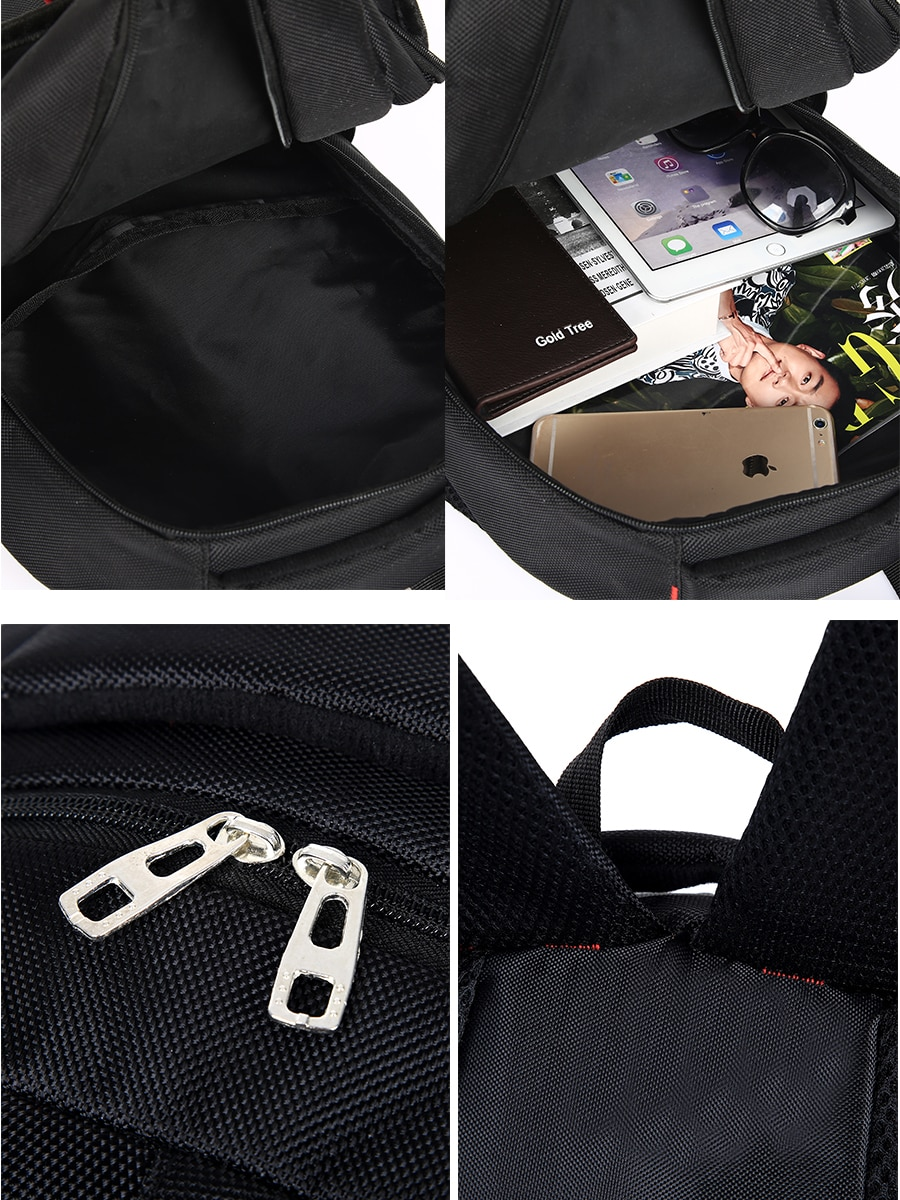Accessories|Sunglasses & Eyewears: (673, 103, 857, 237)
Computers&Acc|Computers & Tablets: (557, 114, 894, 303)
Men's Backpacks: (448, 1, 900, 599), (1, 1, 446, 592)
Mobiles&Acc|Mobile Phone: (525, 403, 838, 526)
